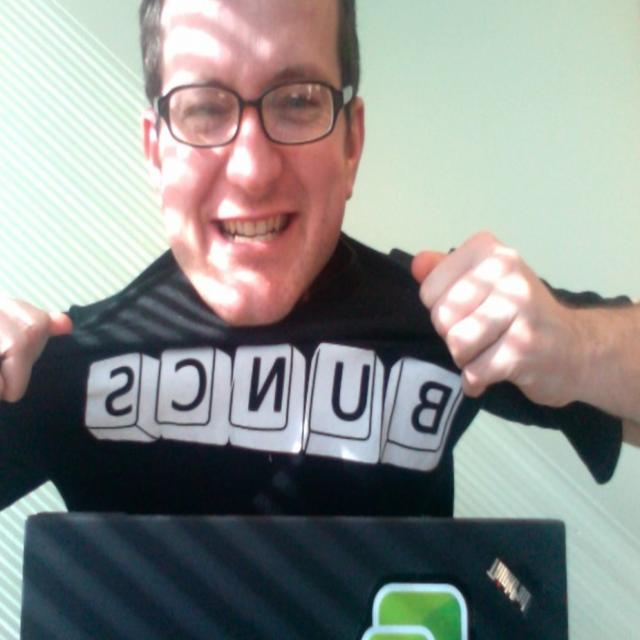Glasses: (142, 57, 357, 147)
